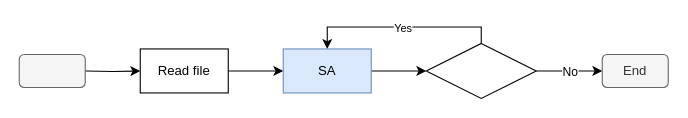
Some shapes in this 688 by 118 pixel diagram are drawn without their labels. The shapes that lost their labels are listed below. From the top down, each one's centre as x and y in pixels, then its label:
At point (51, 70): "Start".
At point (480, 70): "Time < 7080s".
